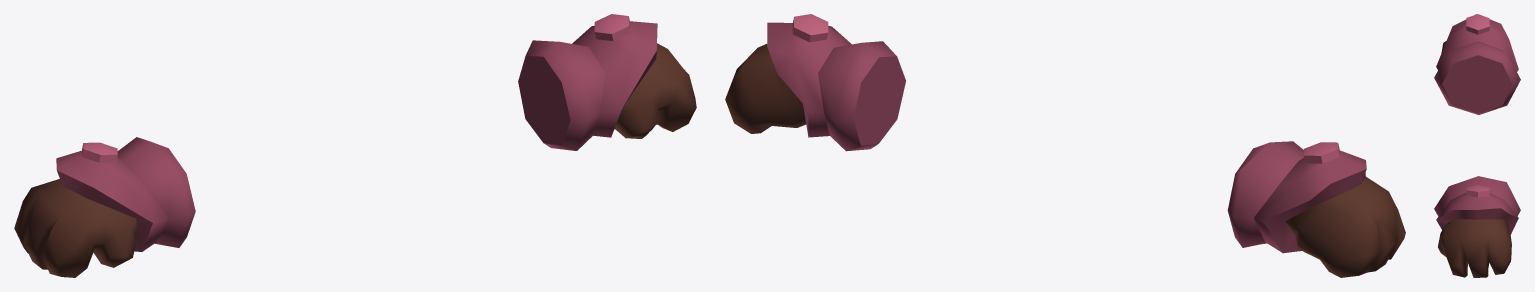
The model's file is Glove_20.fbx.
3 views of the same model, side by side, from view 1: azimuth 30°, elevation 25°; view 2: azimuth 150°, elevation 25°; view 3: azimuth 270°, elevation 25° (orthographic). The views are drawn at different scales.
Parts seen in each view (by area): view 1: Glove_20; view 2: Glove_20; view 3: Glove_20.
Boxes of the visible parts, left/top/right/bottom form: Glove_20: left=14, top=14, right=696, bottom=277; Glove_20: left=725, top=14, right=1405, bottom=277; Glove_20: left=1434, top=14, right=1520, bottom=277.
Size of the model in its own units: 133 by 22.26 by 22.85.
